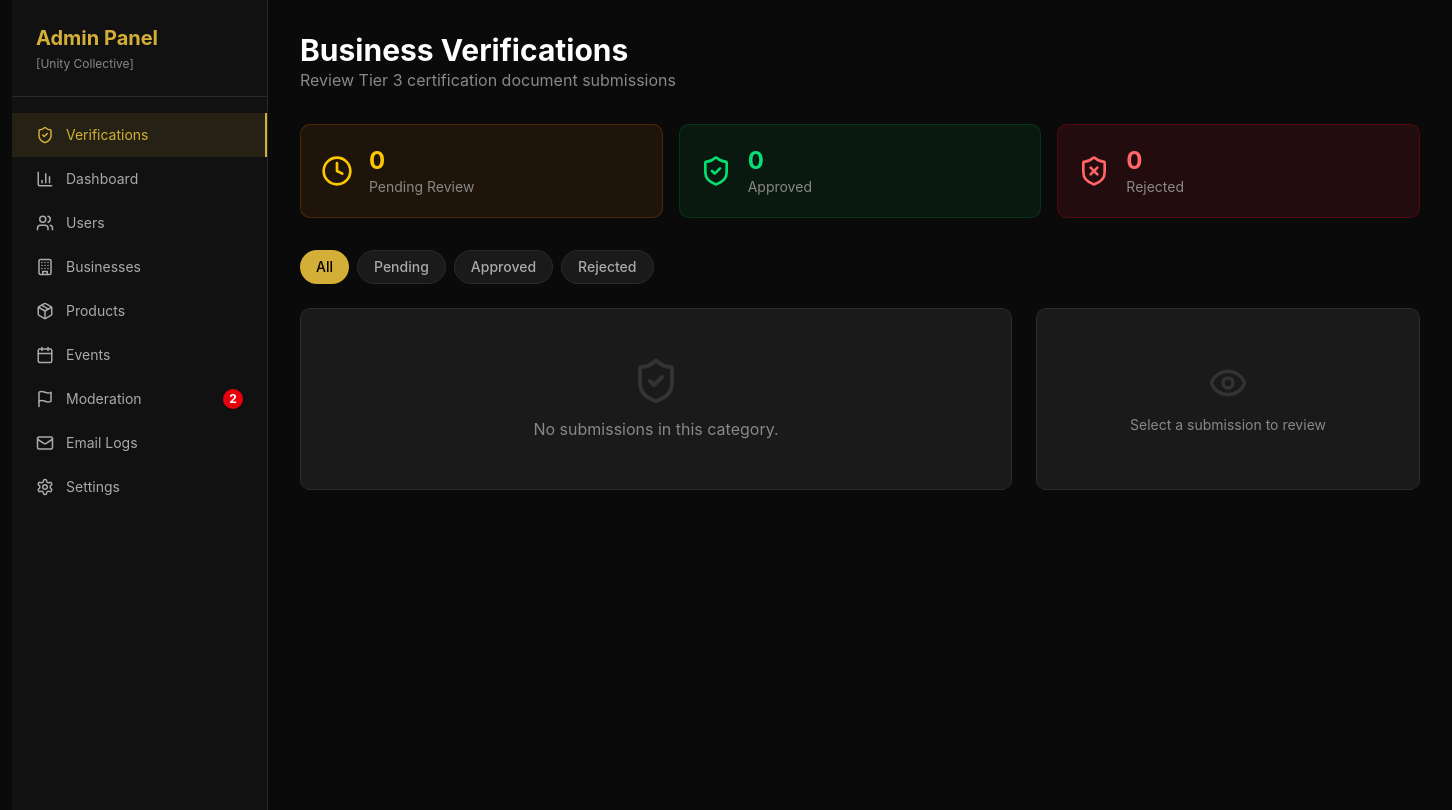
Test: AdminPanel — Moderation refinement › shows business category and a privacy-safe reporter reference without exposing the full UID
This screenshot has width=1452, height=810.
Click the button "Moderation 2" at (140, 399), box [12,377,267,421]
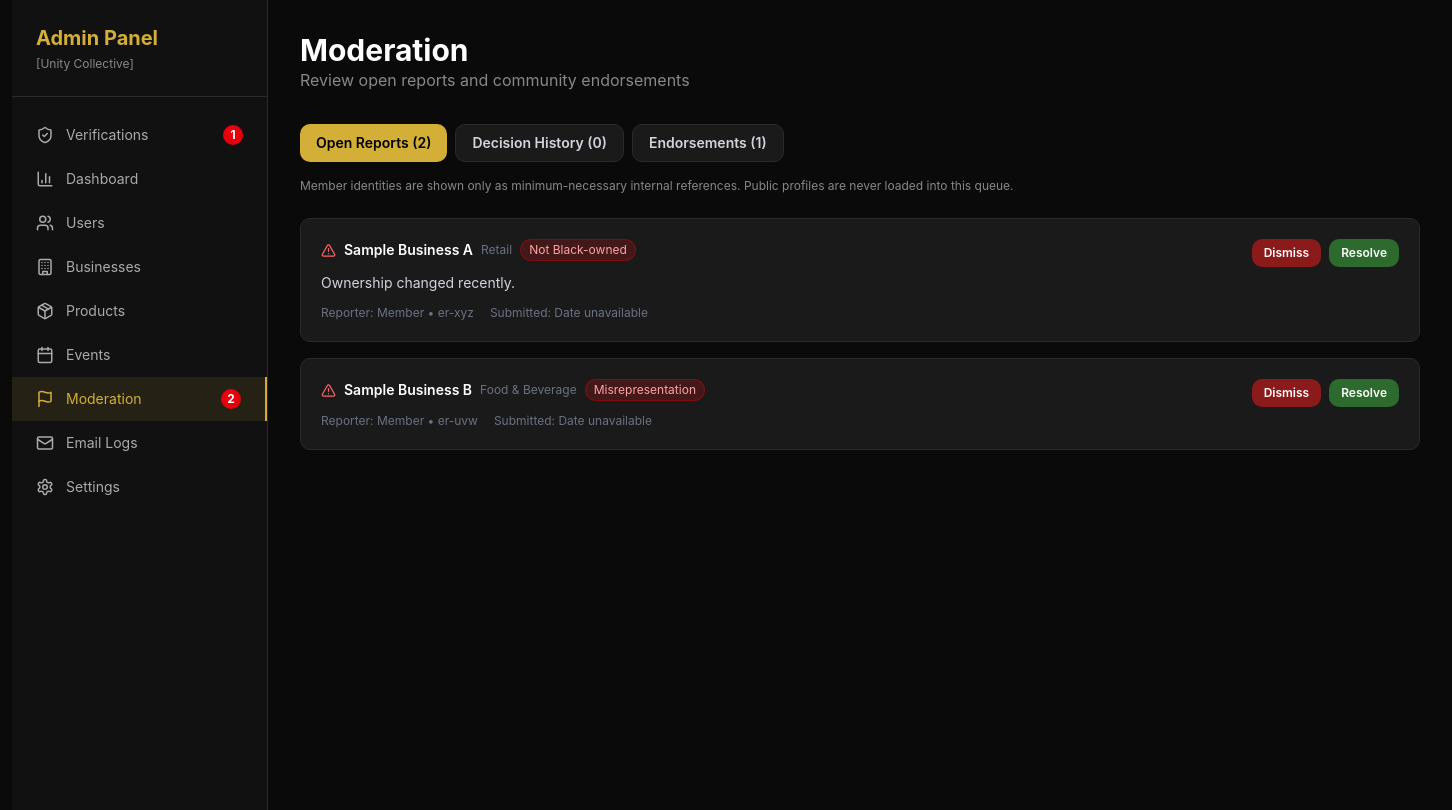
Expected: the button "Open Reports (2)" is shown, [300,124,447,162]
Expected: the text "Sample Business A" is shown, [344,240,473,260]
Expected: the text "Retail" is shown, [481,242,512,258]
